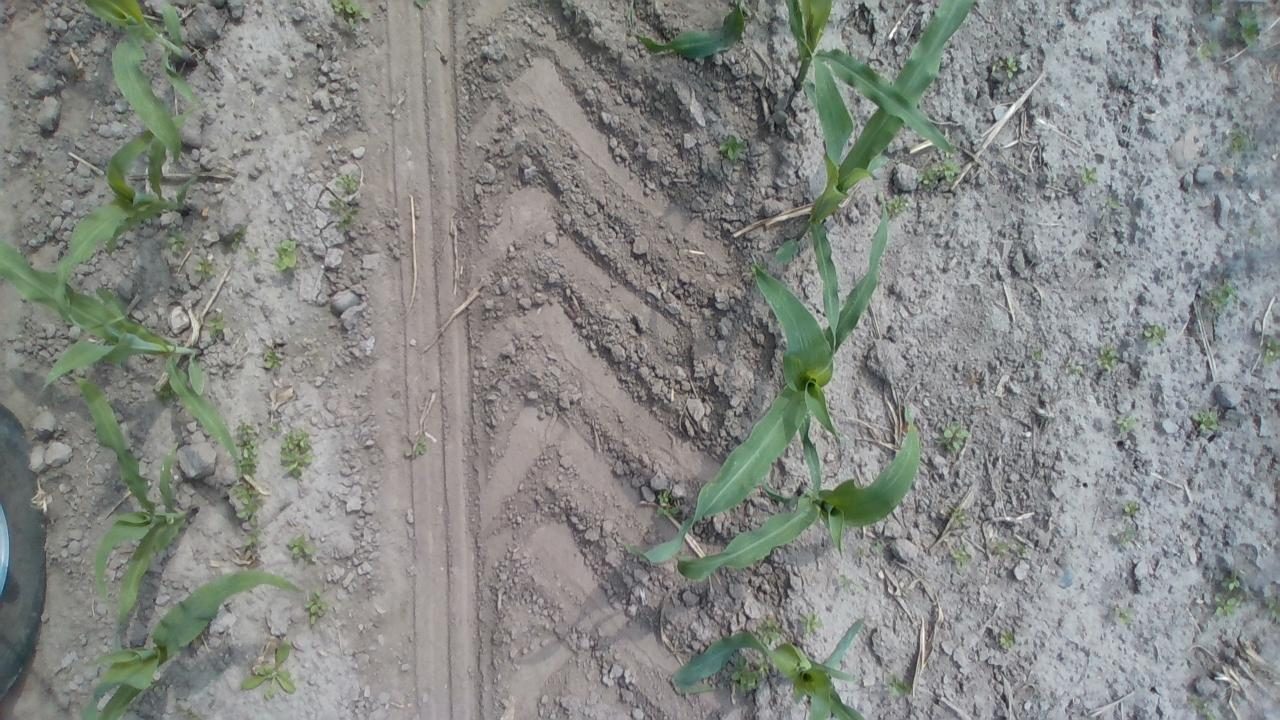Maize: (618, 198, 891, 568), (773, 0, 974, 350), (0, 232, 246, 478), (624, 3, 960, 154), (666, 402, 925, 580), (69, 374, 199, 648), (77, 571, 302, 718), (52, 104, 204, 320), (670, 614, 869, 720), (81, 0, 197, 169)
Weeds: (238, 637, 298, 698), (915, 148, 963, 192), (279, 426, 316, 480), (729, 652, 772, 692), (1226, 6, 1264, 48), (232, 420, 259, 478), (1213, 574, 1248, 618), (327, 0, 372, 31), (230, 485, 262, 528), (1202, 280, 1238, 313), (302, 586, 330, 626), (752, 616, 786, 648), (936, 421, 970, 453), (287, 534, 319, 566), (270, 238, 300, 272), (716, 132, 749, 162), (328, 198, 356, 230), (1188, 692, 1220, 720), (884, 670, 914, 699), (653, 487, 680, 519), (994, 53, 1022, 81), (798, 610, 824, 638), (1141, 322, 1168, 348), (1096, 343, 1119, 372), (1228, 129, 1252, 156), (332, 172, 361, 194), (1110, 524, 1136, 548), (166, 228, 190, 254), (151, 382, 175, 408), (173, 698, 203, 718), (886, 192, 910, 217), (1190, 410, 1220, 430), (192, 255, 216, 280), (1112, 413, 1139, 434), (836, 574, 864, 594), (948, 544, 972, 567), (203, 315, 224, 339), (1197, 40, 1222, 60), (1262, 336, 1277, 368), (996, 626, 1016, 650), (262, 347, 282, 369), (1116, 604, 1136, 626), (1062, 360, 1086, 377), (230, 226, 246, 250), (1078, 166, 1098, 185), (1264, 596, 1278, 622), (952, 508, 968, 530), (412, 435, 428, 457), (1101, 196, 1120, 214), (991, 539, 1010, 556), (243, 530, 260, 549), (871, 538, 887, 557), (146, 679, 166, 694), (244, 246, 260, 264), (1121, 501, 1140, 516), (1208, 0, 1225, 16), (1031, 346, 1045, 361), (1016, 544, 1030, 558), (948, 140, 960, 154), (270, 419, 282, 432), (415, 0, 430, 9)
